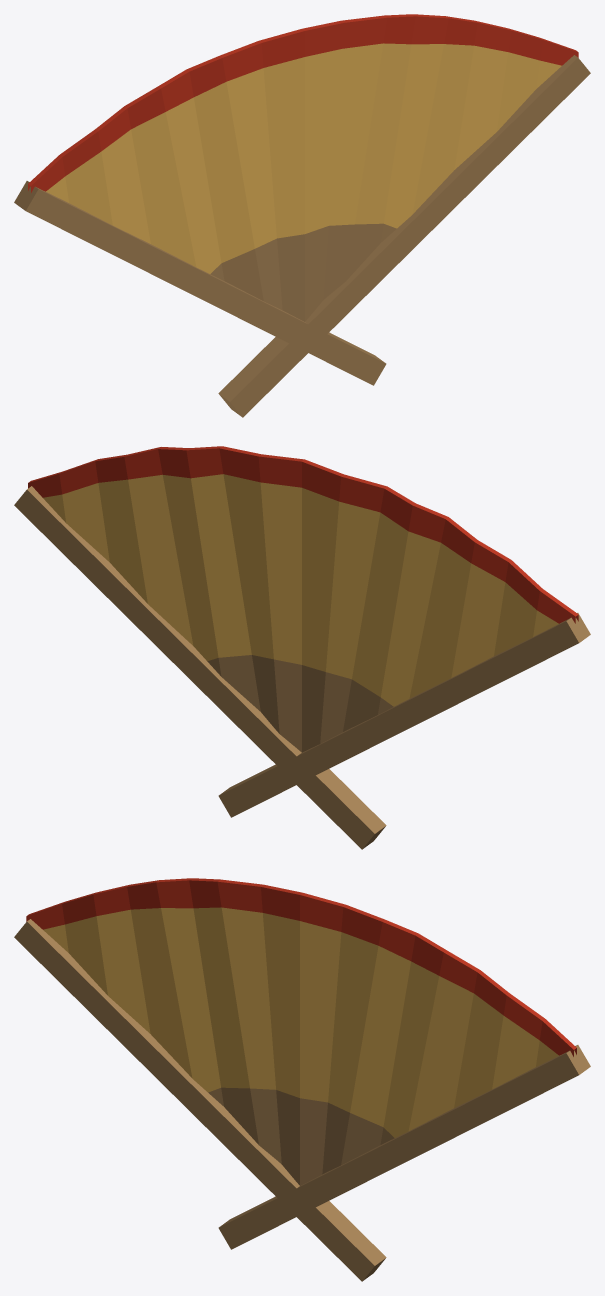
File: Marao_2.fbx
3 views of the same model, one above another, from view 1: azimuth 30°, elevation 25°; view 2: azimuth 150°, elevation 25°; view 3: azimuth 330°, elevation 25° (orthographic).
Parts seen in each view (by area): view 1: Marao_2; view 2: Marao_2; view 3: Marao_2.
Boxes of the visible parts, x1,y1,x2,y2 form: Marao_2: (14,14,590,417); Marao_2: (14,446,590,849); Marao_2: (14,878,590,1281).
Bounding box in the file's own units: 67 × 41.72 × 2.4.
